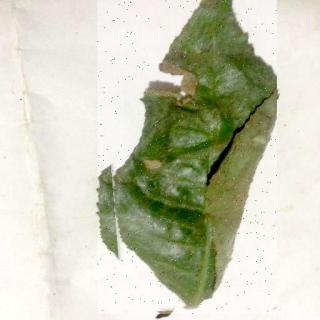Red Leaf Spot: (98, 1, 278, 315)
